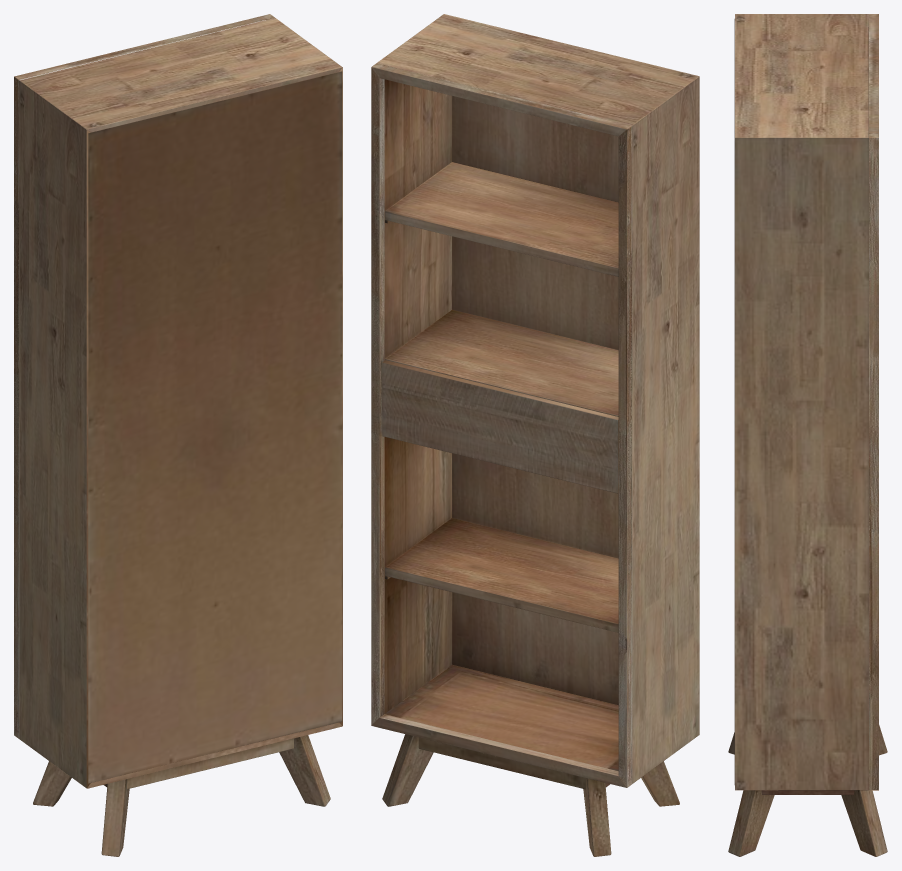
Rendered from abo_B07HSGBB2D.glb.
3 renders of one model, left to right at view 1: azimuth 30°, elevation 25°; view 2: azimuth 150°, elevation 25°; view 3: azimuth 270°, elevation 25°, orthographic.
Visible parts, largest first — view 1: RootNode; view 2: RootNode; view 3: RootNode.
Part boxes in pixels (x1,y1,x2,y2): RootNode: (14, 14, 342, 856); RootNode: (371, 14, 699, 856); RootNode: (728, 14, 887, 856).
Bounding box in the file's own units: 0.4915 × 1.34 × 0.2673.
1 material, 1 textured.
